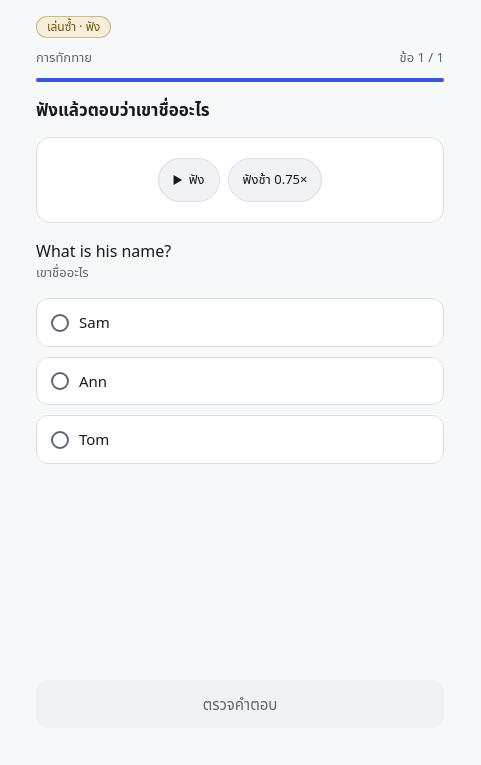
Test case: LessonPlayer in practice mode › completes with completePractice({ kind: replay, day, skill, sessionId, completedAt })
Click the radio button labelled "Sam": (94, 322) 36,298 -> 444,347
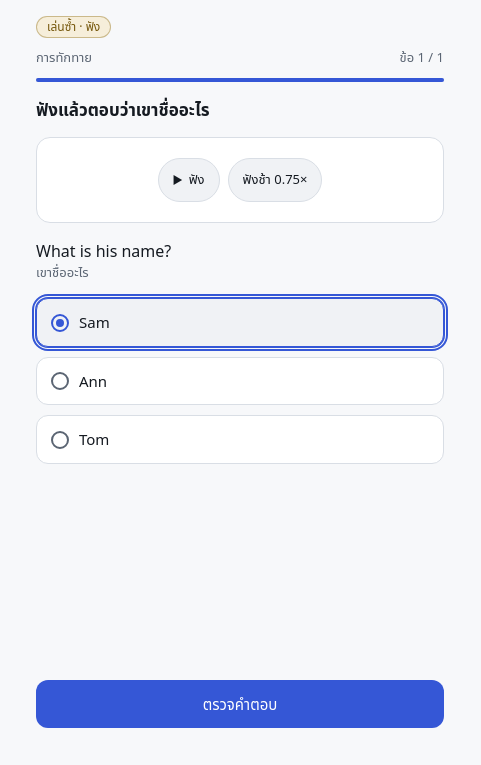
Click the button "ตรวจคำตอบ": (240, 704) 36,680 -> 444,728
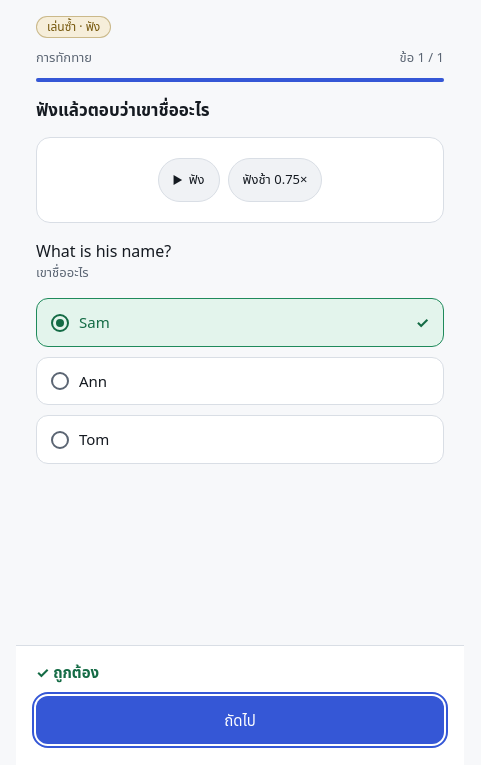
Click the button "ถัดไป": (240, 720) 36,696 -> 444,744
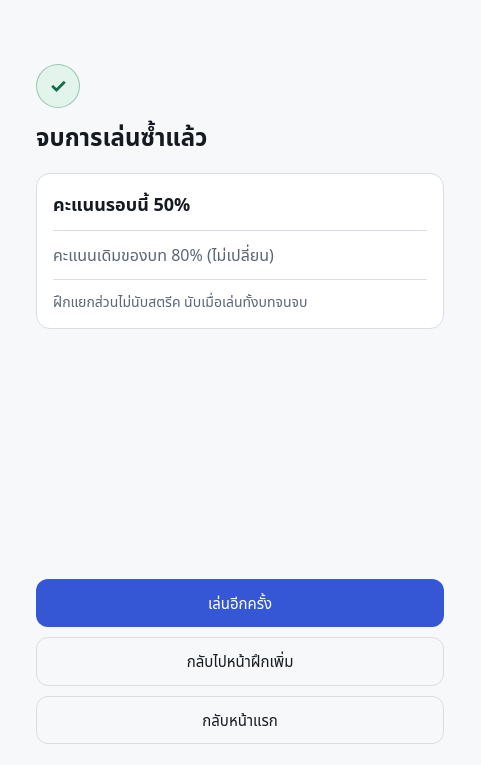
Now the heading "จบการเล่นซ้ำแล้ว" is shown, box 36,120 -> 207,153
